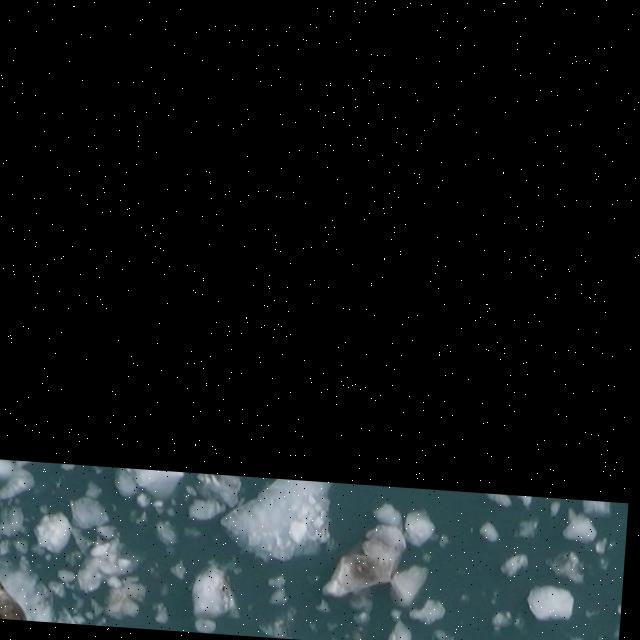seal: (0, 583, 29, 620)
